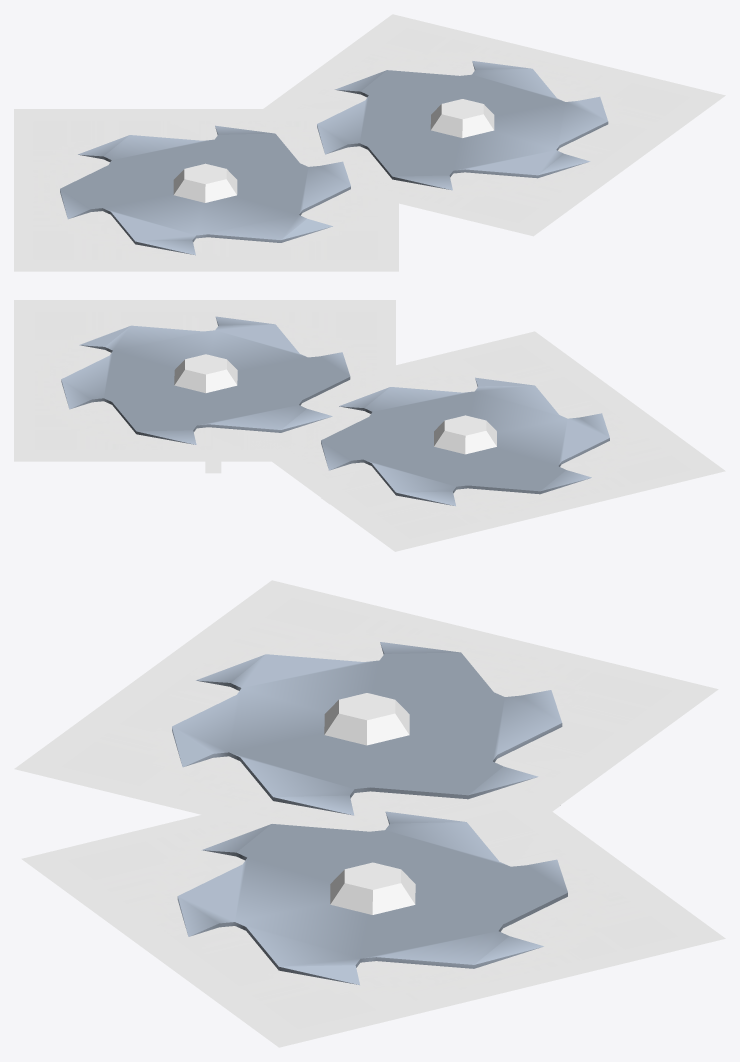
The model's file is saw 4.FBX.
3 renders of one model, top to bottom at view 1: azimuth 30°, elevation 25°; view 2: azimuth 150°, elevation 25°; view 3: azimuth 270°, elevation 25°, orthographic. The views are drawn at different scales.
Visible parts, largest first — view 1: Saw_Wind_FX, Saw_Wind_FX_1, Saw_6_3, Saw_6_1, Saw_6_cell, Saw_6_cell_1; view 2: Saw_Wind_FX_1, Saw_Wind_FX, Saw_6_3, Saw_6_1, Saw_6_cell_1, Saw_6_cell; view 3: Saw_Wind_FX_1, Saw_Wind_FX, Saw_6_3, Saw_6_1, Saw_6_cell_1, Saw_6_cell.
Part boxes in pixels (x1,y1,x2,y2): Saw_Wind_FX: (14,109,398,271); Saw_Wind_FX_1: (263,14,725,236); Saw_6_3: (317,61,608,190); Saw_6_1: (60,125,350,255); Saw_6_cell: (173,163,237,202); Saw_6_cell_1: (430,99,494,137); Saw_Wind_FX_1: (14,300,395,461); Saw_Wind_FX: (231,331,725,551); Saw_6_3: (61,316,350,444); Saw_6_1: (321,377,609,506); Saw_6_cell_1: (174,354,237,393); Saw_6_cell: (434,415,496,454); Saw_Wind_FX_1: (21,784,725,1047); Saw_Wind_FX: (14,580,718,836); Saw_6_3: (177,811,567,984); Saw_6_1: (172,642,562,815); Saw_6_cell_1: (330,862,415,914); Saw_6_cell: (324,693,409,745).
Size of the model in its own units: 620 by 34.96 by 399.
